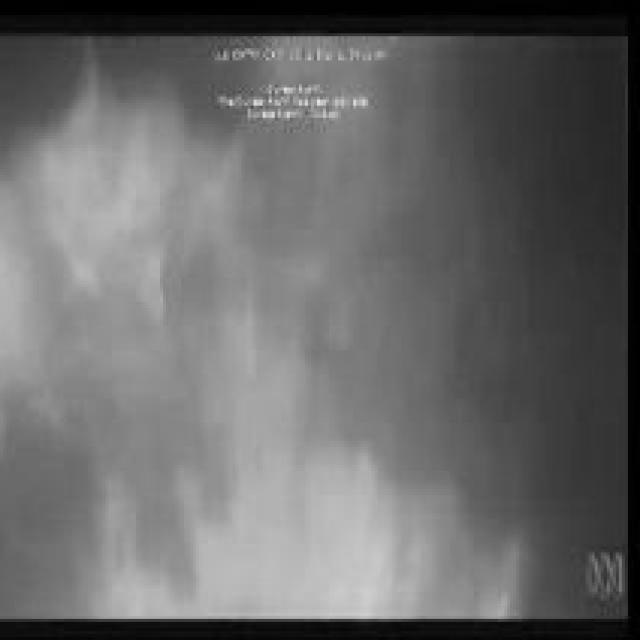smoke: (0, 87, 468, 616)
